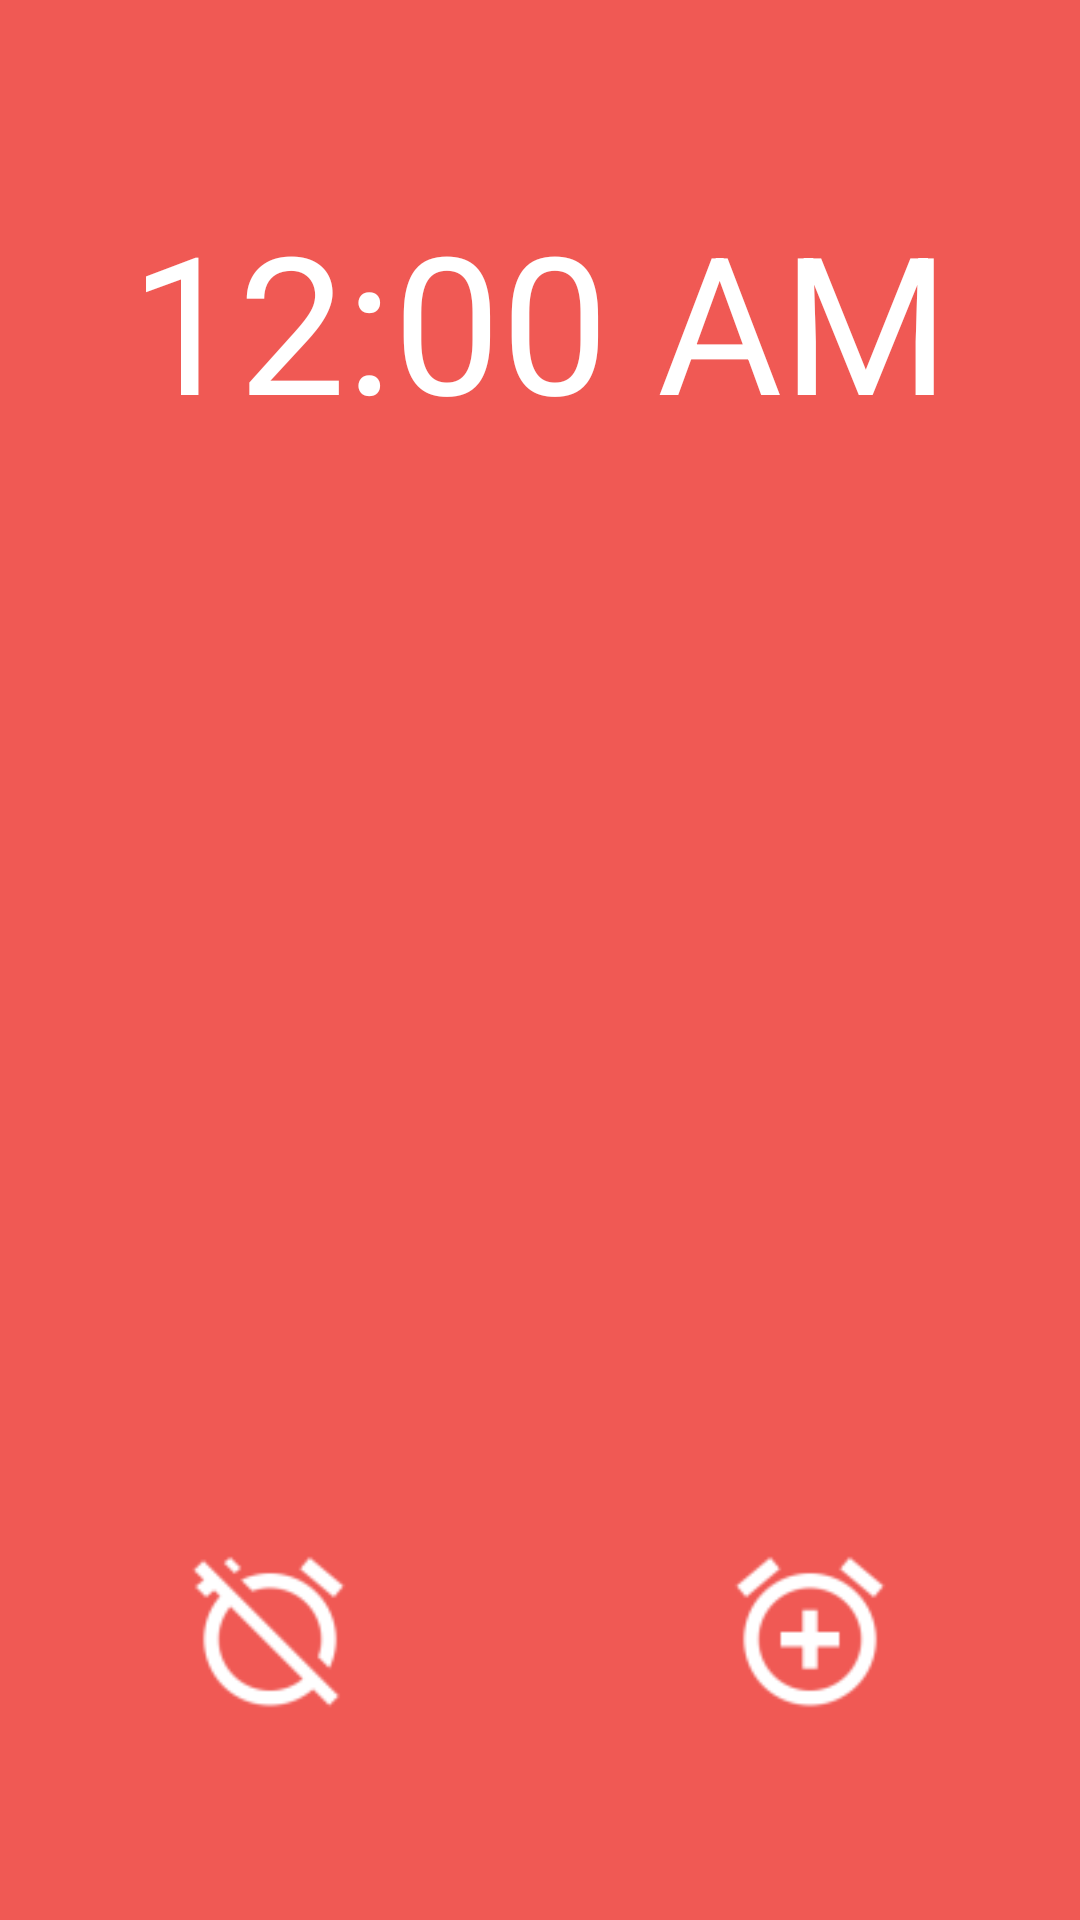

Point at icon controls on the screen. Image size 1080w x 1920h, points as [x,y].
alarm add: [810,1632]
alarm off: [268,1632]
